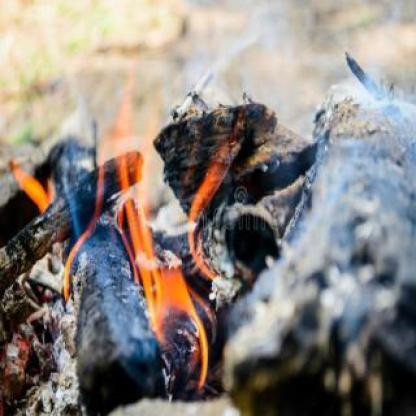fire: (11, 55, 235, 386)
